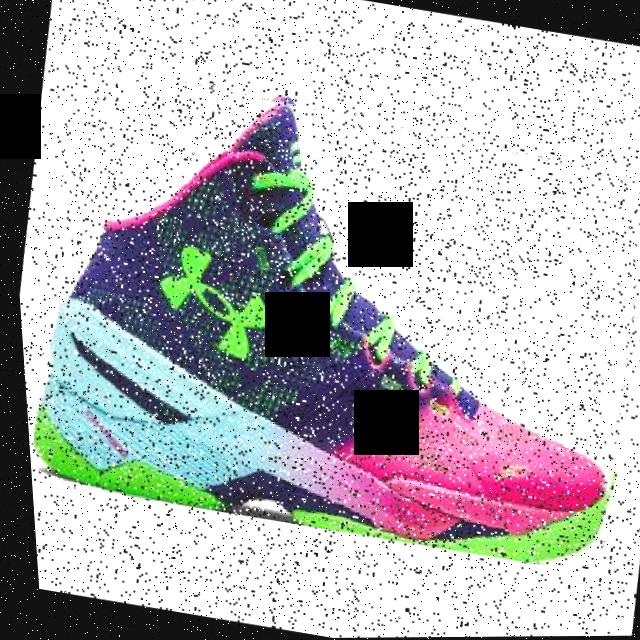shoe: (3, 54, 640, 580)
